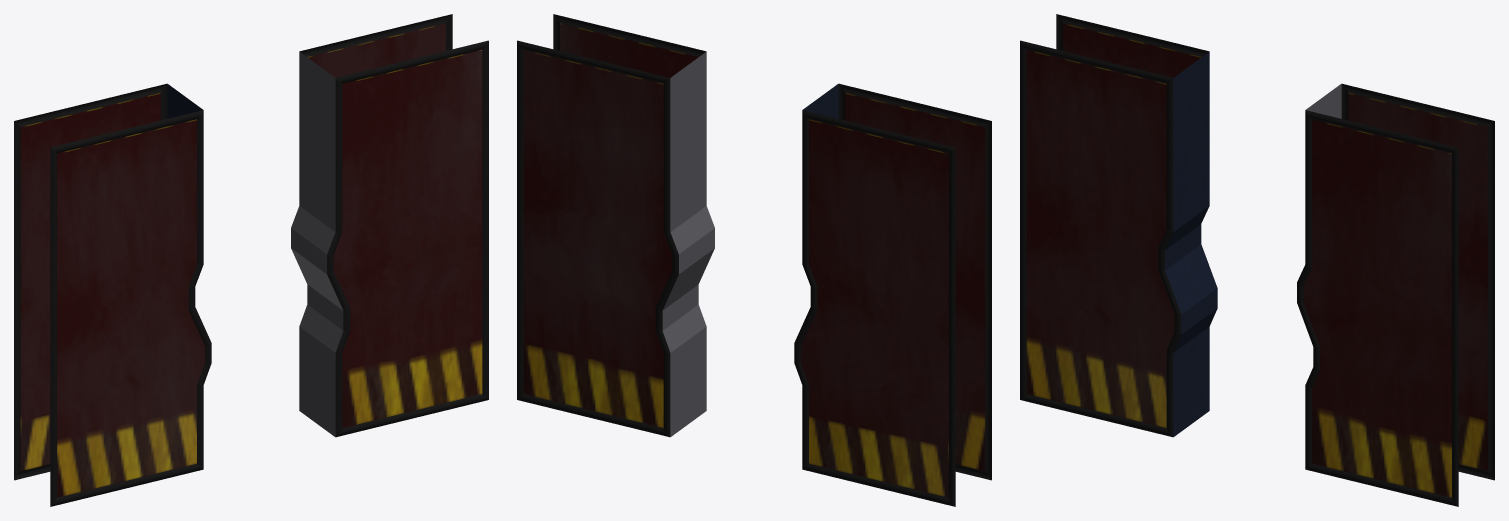
The model's file is door-frame-locked_000004.obj.
3 renders of one model, left to right at view 1: azimuth 30°, elevation 25°; view 2: azimuth 150°, elevation 25°; view 3: azimuth 330°, elevation 25°, orthographic.
Parts seen in each view (by area): view 1: Door.Left_Cube.007, Door.Right_Cube.006; view 2: Door.Left_Cube.007, Door.Right_Cube.006; view 3: Door.Left_Cube.007, Door.Right_Cube.006.
Part boxes in pixels (x1,y1,x2,y2): Door.Left_Cube.007: (291,14,488,437); Door.Right_Cube.006: (14,83,211,506); Door.Left_Cube.007: (517,14,714,437); Door.Right_Cube.006: (794,83,991,506); Door.Left_Cube.007: (1297,83,1494,506); Door.Right_Cube.006: (1020,14,1217,437).
Bounding box in the file's own units: 6.71 × 5.26 × 0.9998.
6 materials, 6 textured.
